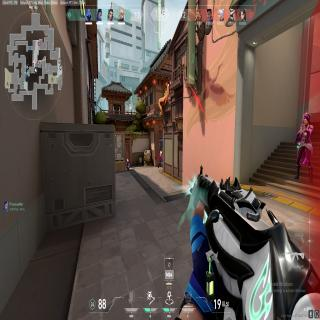ENEMY-BODY: (294, 112, 314, 184), (158, 149, 162, 167), (126, 158, 130, 170)
ENEMY-HEAD: (303, 114, 310, 126), (127, 159, 129, 164), (161, 151, 162, 154)
